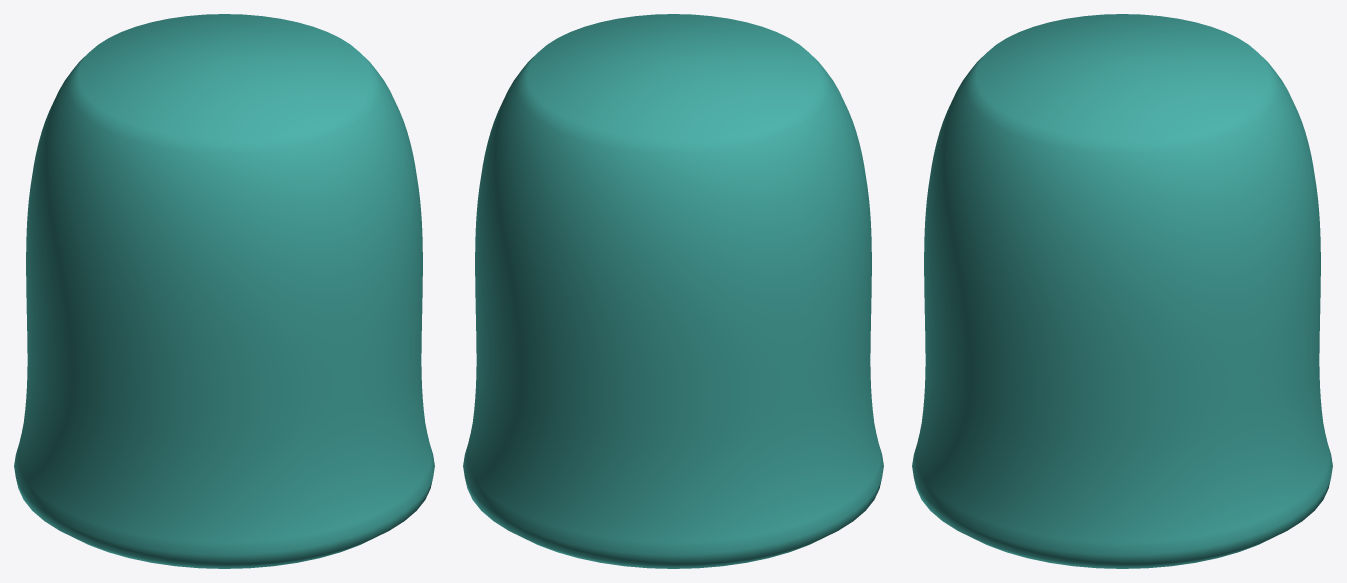
The model's file is creature.glb.
3 views of the same model, side by side, from view 1: azimuth 30°, elevation 25°; view 2: azimuth 150°, elevation 25°; view 3: azimuth 270°, elevation 25° (orthographic).
Parts seen in each view (by area): view 1: Body; view 2: Body; view 3: Body.
Boxes of the visible parts, left/top/right/bottom form: Body: left=14, top=14, right=434, bottom=568; Body: left=463, top=14, right=883, bottom=568; Body: left=912, top=14, right=1332, bottom=568.
Bounding box in the file's own units: 0.4276 × 0.5 × 0.4276.
